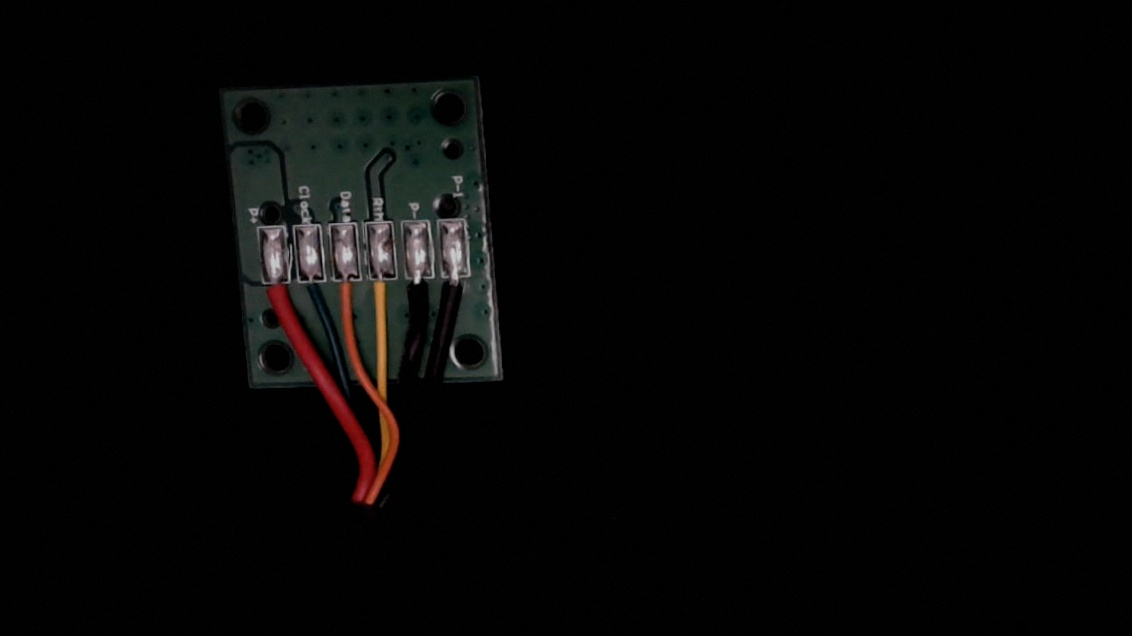Black: (404, 266, 435, 326)
Black1: (440, 264, 471, 322)
Green: (296, 268, 328, 319)
Orange: (332, 269, 361, 311)
Red: (262, 272, 293, 326)
Yellow: (364, 266, 399, 322)
